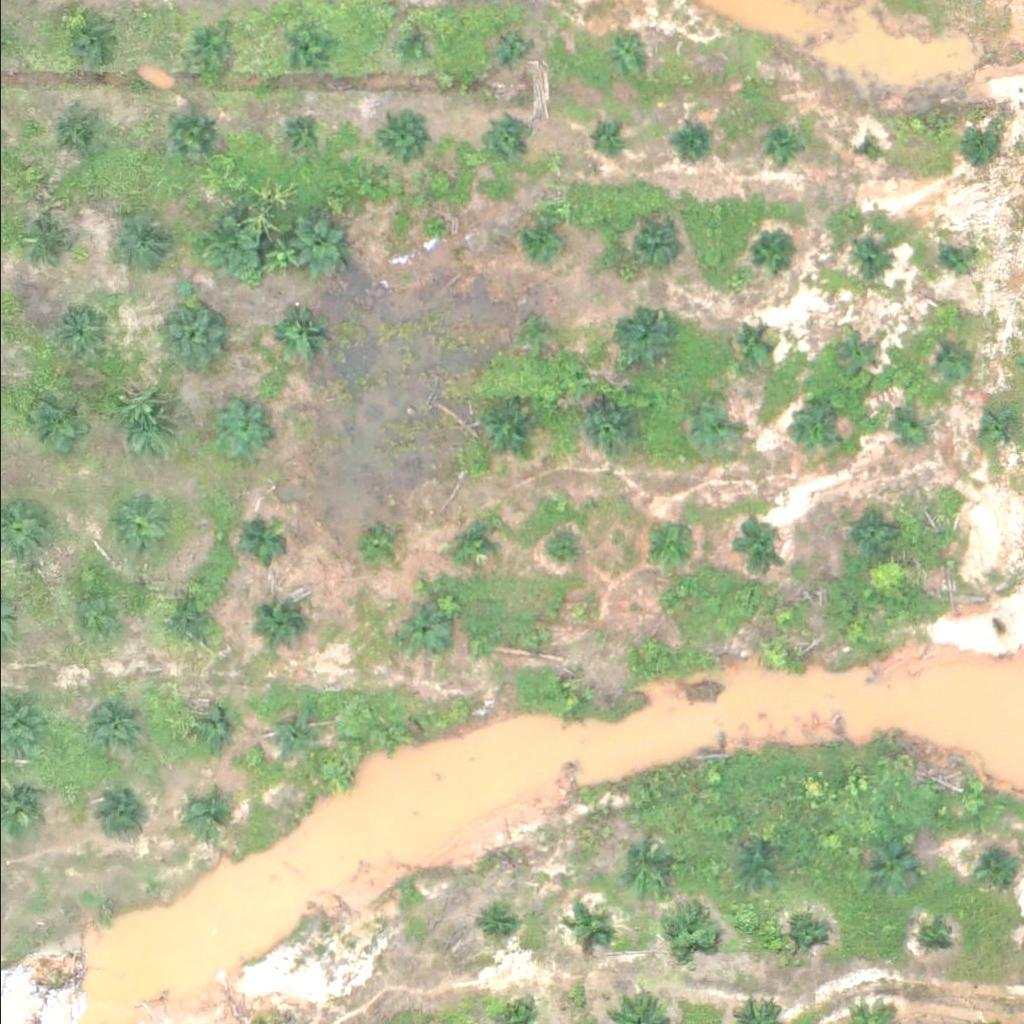Kelapa_Sawit: (53, 577, 116, 640), (77, 692, 140, 755), (613, 302, 676, 365), (260, 300, 323, 363), (160, 304, 223, 367), (677, 399, 740, 462), (284, 214, 347, 277), (54, 7, 116, 70), (21, 388, 84, 450), (106, 499, 169, 561), (208, 398, 271, 460), (195, 216, 258, 278), (108, 394, 171, 456), (582, 406, 633, 456), (479, 405, 530, 455), (377, 111, 428, 161), (447, 516, 498, 566), (628, 218, 679, 268), (747, 230, 798, 280), (792, 407, 842, 457), (40, 111, 90, 161), (108, 213, 158, 263), (15, 221, 65, 271), (52, 304, 102, 354), (168, 107, 218, 157), (91, 793, 141, 843), (260, 600, 310, 650), (235, 518, 285, 568), (188, 25, 238, 75), (265, 707, 315, 757), (396, 606, 446, 656), (180, 703, 230, 753), (181, 789, 231, 839), (156, 597, 206, 647), (276, 111, 326, 161), (280, 24, 330, 74), (771, 908, 821, 958), (662, 906, 712, 956), (728, 520, 778, 570), (638, 518, 688, 568), (863, 842, 913, 892), (843, 511, 893, 561), (612, 844, 662, 894), (370, 715, 408, 753), (359, 527, 397, 565), (393, 22, 431, 60), (569, 905, 607, 943), (478, 906, 516, 944), (518, 619, 556, 657), (631, 629, 669, 667), (756, 635, 794, 673), (974, 846, 1012, 884), (666, 127, 704, 165), (586, 121, 624, 159), (938, 245, 976, 283), (896, 413, 934, 451), (983, 413, 1021, 451), (522, 221, 560, 259), (556, 683, 594, 720), (736, 846, 774, 883), (958, 123, 995, 161), (842, 132, 879, 170), (758, 129, 795, 167), (855, 241, 892, 279), (929, 346, 967, 383), (833, 336, 871, 373), (609, 34, 647, 71), (516, 317, 554, 354), (490, 118, 528, 155), (492, 26, 530, 63), (538, 529, 575, 566), (730, 327, 767, 364), (920, 925, 945, 950)
